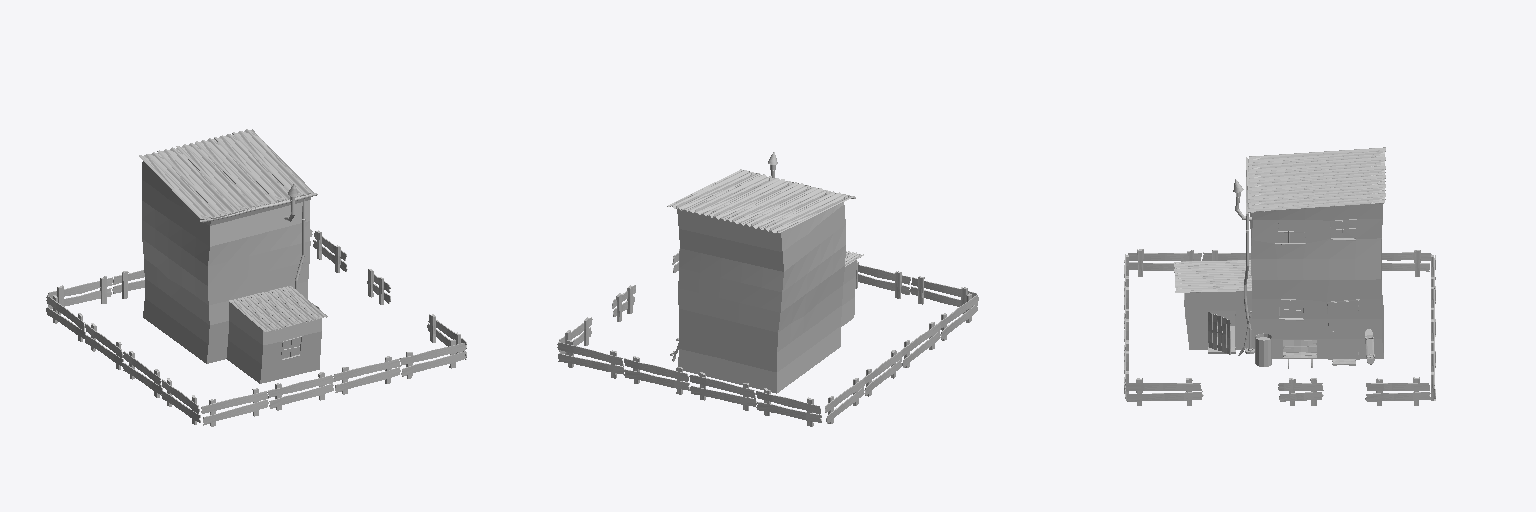
File: shelter2.obj
3 views of the same model, side by side, from view 1: azimuth 30°, elevation 25°; view 2: azimuth 150°, elevation 25°; view 3: azimuth 270°, elevation 25° (orthographic).
Bounding box in the file's own units: 526 × 317 × 529.